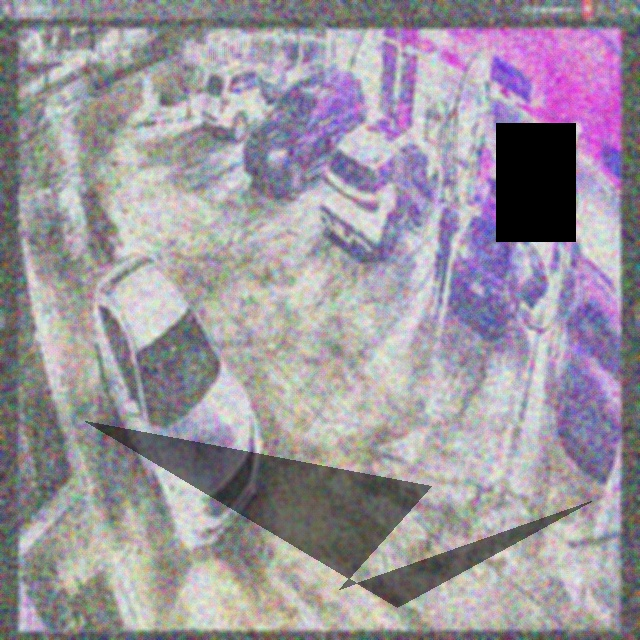Car: (93, 251, 262, 551), (320, 112, 438, 252), (245, 66, 367, 193), (448, 187, 544, 338)
